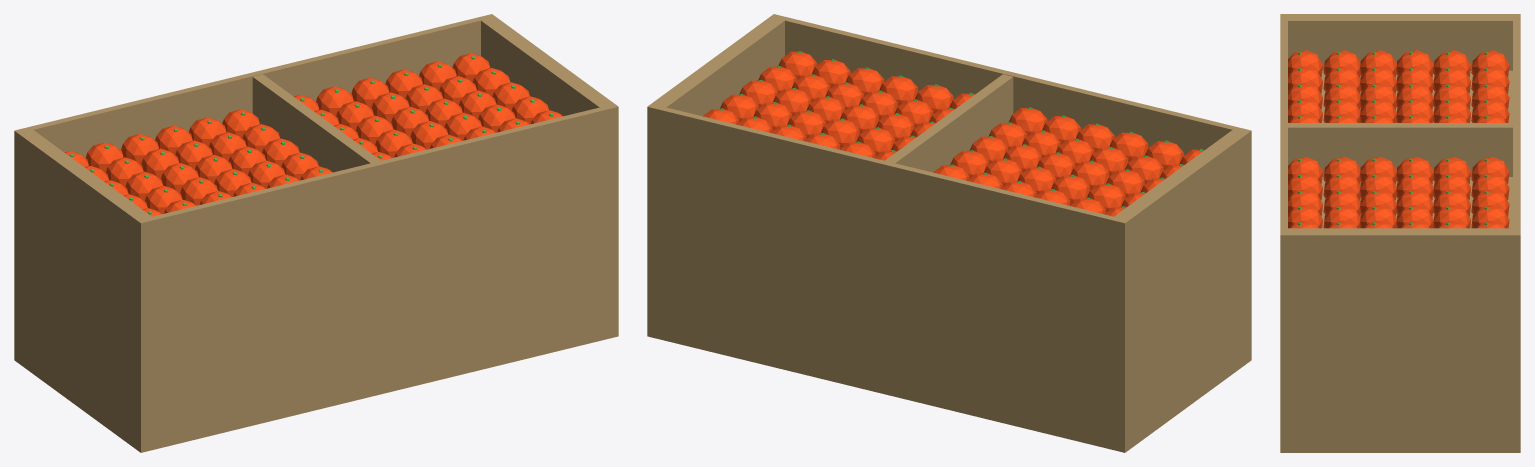
File: orange_box.gltf
The picture shows the model from 3 angles, left to right: view 1: azimuth 30°, elevation 25°; view 2: azimuth 150°, elevation 25°; view 3: azimuth 270°, elevation 25°; orthographic projection. The views are drawn at different scales.
Parts seen in each view (by area): view 1: Cube.002, Icosphere.001, Icosphere.003; view 2: Cube.002, Icosphere.001, Icosphere.003; view 3: Cube.002, Icosphere.003, Icosphere.001, Icosphere.002, Icosphere.
Boxes of the visible parts, x1,y1,x2,y2 form: Cube.002: (14, 14, 618, 452); Icosphere.001: (294, 53, 562, 160); Icosphere.003: (64, 109, 332, 216); Cube.002: (647, 14, 1251, 452); Icosphere.001: (703, 51, 954, 160); Icosphere.003: (934, 107, 1183, 216); Cube.002: (1280, 14, 1520, 452); Icosphere.003: (1288, 50, 1509, 122); Icosphere.001: (1288, 157, 1509, 228); Icosphere.002: (1288, 50, 1322, 77); Icosphere: (1288, 157, 1322, 183).
Bounding box in the file's own units: 9.22 × 4.23 × 4.23.
